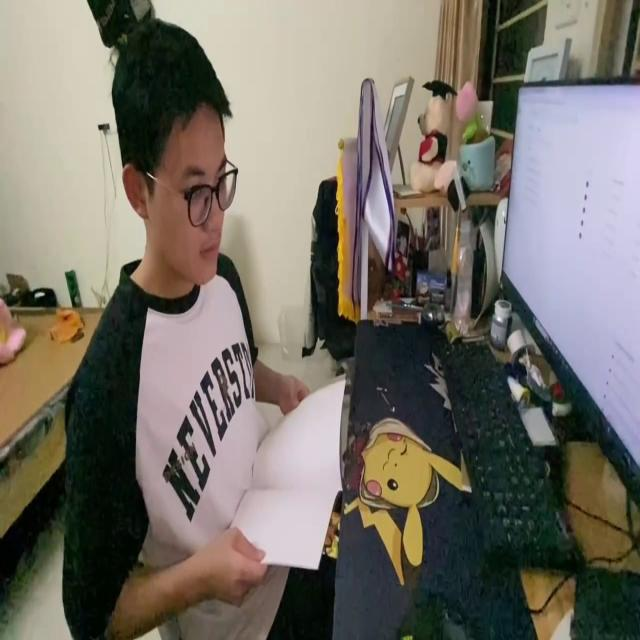book: (230, 370, 347, 574)
laptop: (498, 73, 640, 500)
student: (51, 19, 338, 640)
